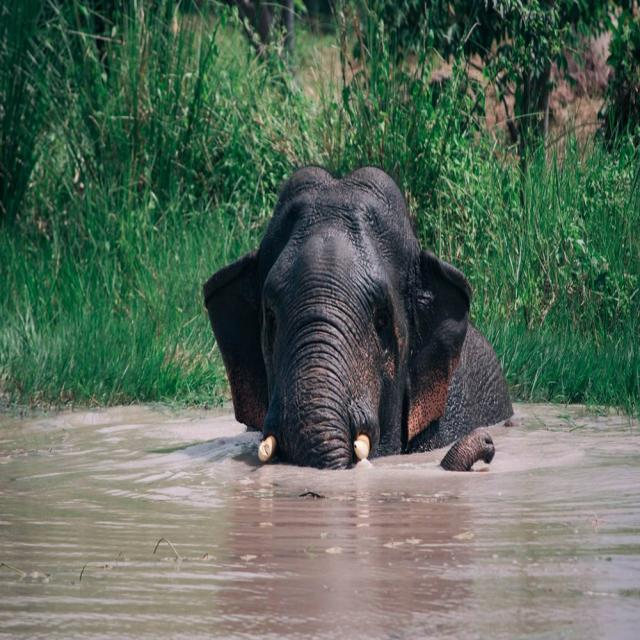Elephant: (203, 165, 527, 484)
